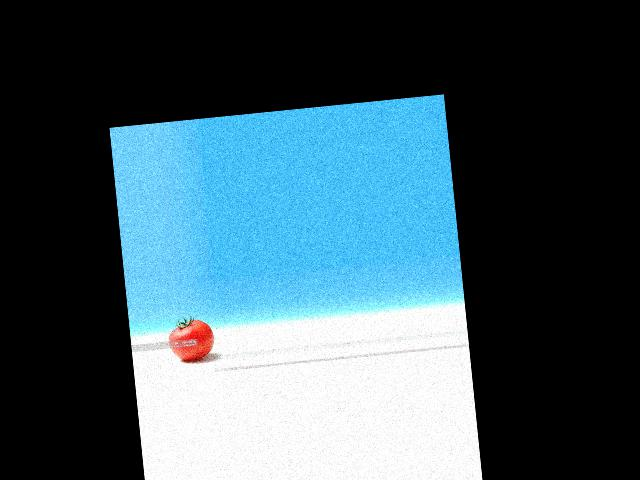tomato: (166, 318, 215, 361)
